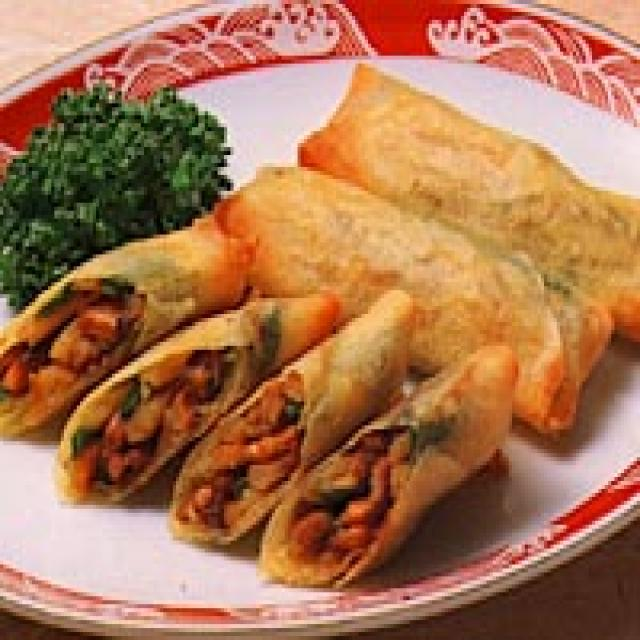鸡蛋料理: (0, 60, 640, 596)
